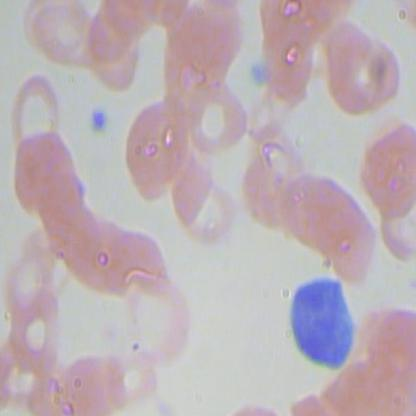Platelets: (86, 98, 115, 140), (244, 54, 266, 88)
RBC: (118, 273, 195, 369), (95, 215, 172, 311), (61, 200, 138, 296), (124, 95, 194, 200), (356, 115, 416, 226), (22, 152, 90, 244), (6, 121, 74, 212), (1, 222, 66, 312), (181, 78, 252, 160), (167, 156, 237, 238), (179, 178, 249, 260), (242, 139, 302, 234), (322, 21, 382, 116), (322, 192, 382, 286), (350, 27, 409, 122), (261, 11, 320, 106), (301, 166, 360, 260), (275, 158, 334, 252), (366, 300, 416, 396), (6, 287, 65, 367), (8, 66, 67, 146), (29, 2, 97, 70), (73, 10, 141, 78), (82, 25, 150, 93), (62, 343, 122, 415), (372, 170, 416, 266), (222, 392, 286, 416)
WBC: (282, 271, 364, 377)
